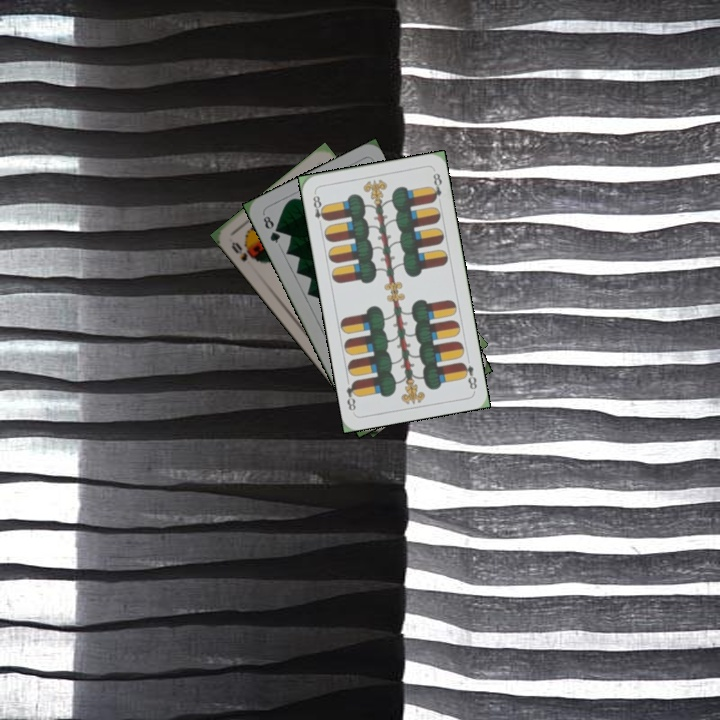E8: (309, 188, 329, 229), (457, 358, 480, 392)
G8: (259, 212, 283, 246)
SO: (227, 237, 260, 265)
